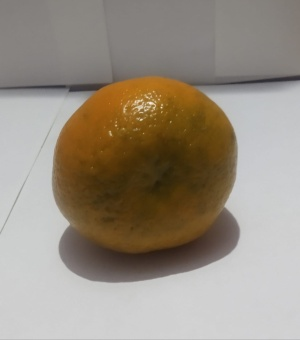BAD: (49, 73, 239, 259)
